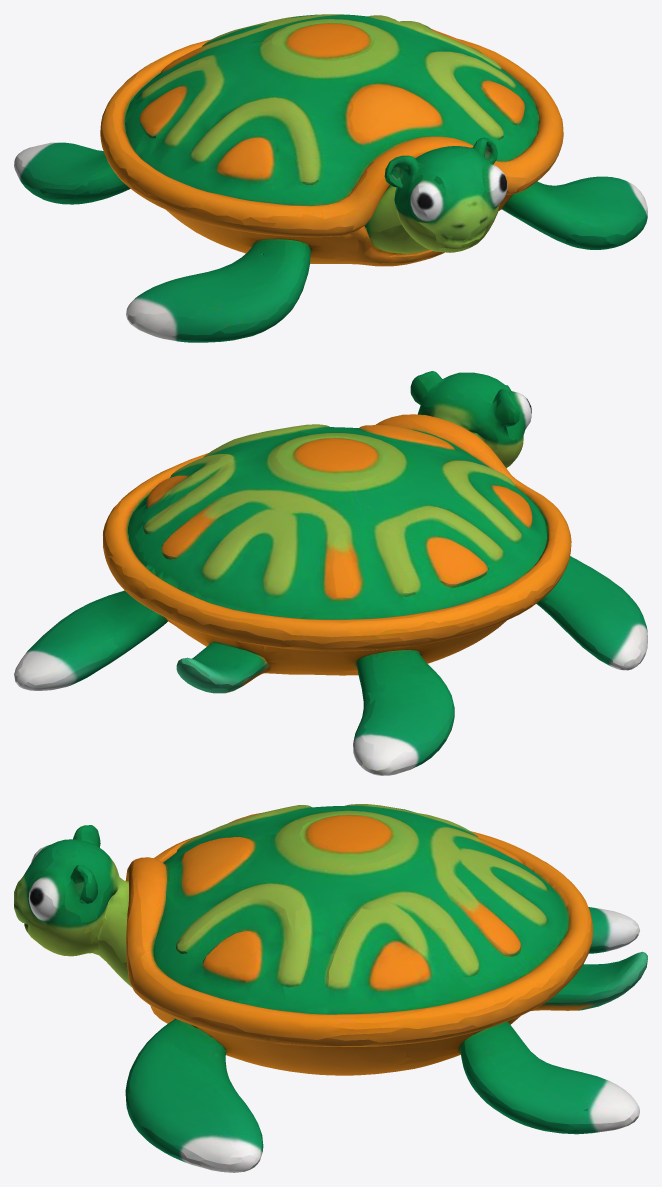
Rendered from wish_turtle_raft.glb.
The picture shows the model from 3 angles, top to bottom: view 1: azimuth 30°, elevation 25°; view 2: azimuth 150°, elevation 25°; view 3: azimuth 270°, elevation 25°; orthographic projection. The views are drawn at different scales.
Parts seen in each view (by area): view 1: world; view 2: world; view 3: world.
Boxes of the visible parts, left/top/right/bottom form: world: left=14, top=14, right=647, bottom=342; world: left=14, top=371, right=647, bottom=775; world: left=14, top=804, right=647, bottom=1172.
Bounding box in the file's own units: 0.25 × 0.092 × 0.2502.
1 material, 1 textured.
